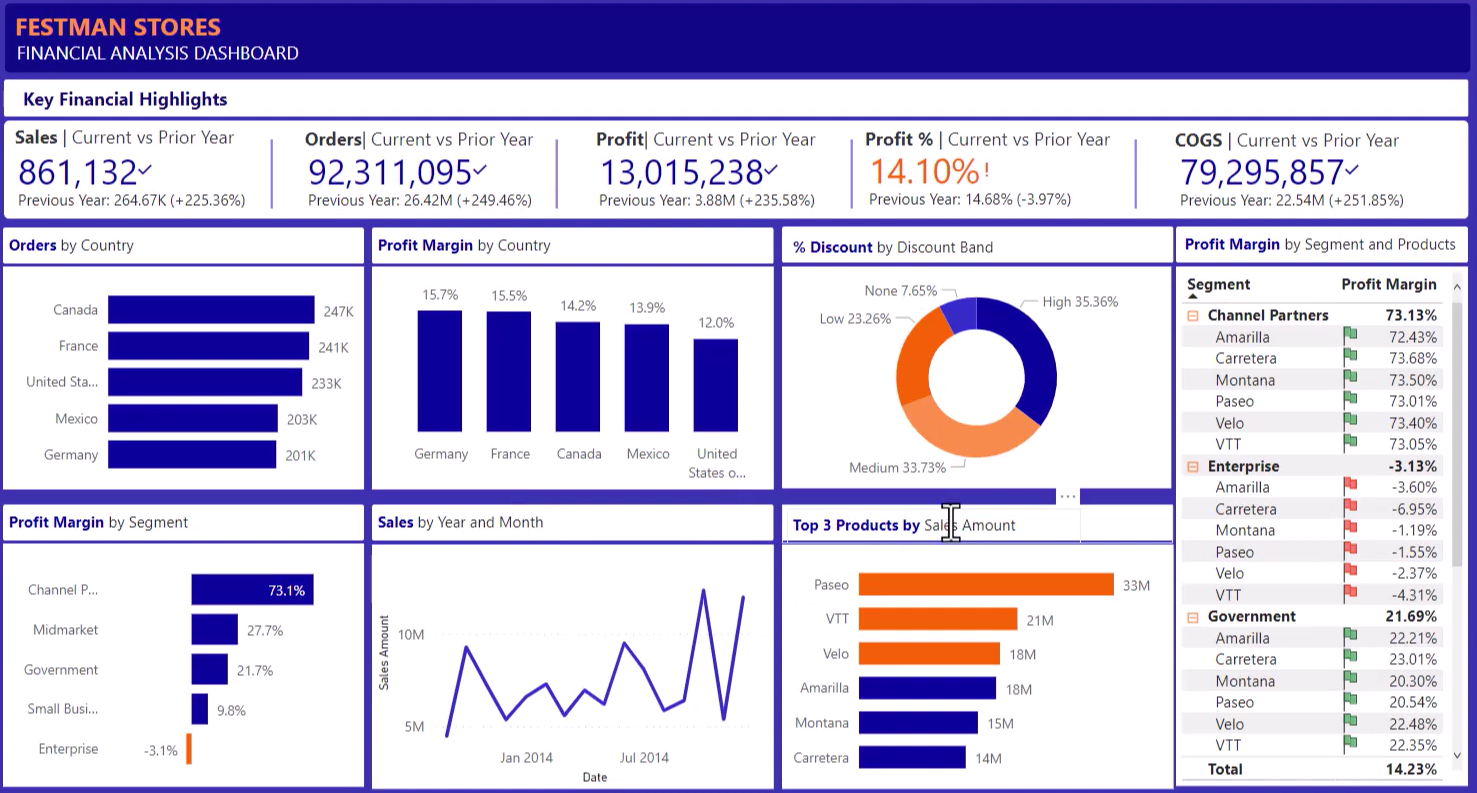

Layout of this report page (visuals, bound fields, positions):
{"tool":"powerbi","page":{"name":"Page 1","canvas":[1870,1166],"ordinal":0},"visuals":[{"type":"shape","box":[1384.2,433.7,481.2,716.9],"z":0},{"type":"shape","box":[8,0,1834,114],"z":1000},{"type":"shape","box":[9.9,126.7,1833.8,49.5],"z":2000},{"type":"shape","box":[10,188,1832,130],"z":3000},{"type":"shape","box":[7.8,394.5,449.2,328.1],"z":4000},{"type":"shape","box":[10,819.9,447.6,329.9],"z":5000},{"type":"shape","box":[468.8,394.5,447.3,328.1],"z":6000},{"type":"shape","box":[468.1,819.8,449.2,330.1],"z":7000},{"type":"shape","box":[927.8,819.8,449.2,330.1],"z":8000},{"type":"shape","box":[925.8,394.5,447.3,328.1],"z":9000},{"type":"shape","box":[9.8,763.7,447.3,43],"z":10000},{"type":"shape","box":[470.7,763.7,447.3,43],"z":11000},{"type":"shape","box":[928.8,763.7,447.3,43],"z":12000},{"type":"shape","box":[9.8,337.9,447.3,43],"z":13000},{"type":"shape","box":[467.8,337.9,447.3,43],"z":14000},{"type":"shape","box":[925.8,337.9,447.3,43],"z":15000},{"type":"shape","box":[1384.2,338.6,459.4,43.6],"z":16000},{"type":"textbox","box":[10,14,410,62],"z":17000},{"type":"textbox","box":[0,64,410,62],"z":18000},{"type":"textbox","box":[12,126,410,62],"z":19000},{"type":"kpi","fields":{"Indicator":["Analysis.Sales Amount"],"TrendLine":["Date.Year"],"Goal":["Analysis.Sales Amount LY"]},"box":[8,218.8,342,100],"z":20000},{"type":"textbox","box":[10,188.3,340,61.7],"z":21000},{"type":"shape","box":[232,204,222,100],"z":22000},{"type":"kpi","fields":{"TrendLine":["Date.Year"],"Goal":["Analysis.Orders LY"],"Indicator":["Analysis.Orders"]},"box":[381,218.8,342,100],"z":23000},{"type":"kpi","fields":{"TrendLine":["Date.Year"],"Indicator":["Analysis.Profit"],"Goal":["Analysis.Profit LY"]},"box":[754,218.8,342,100],"z":24000},{"type":"kpi","fields":{"TrendLine":["Date.Year"],"Indicator":["Analysis.Profit margin"],"Goal":["Analysis.Profit Margin LY"]},"box":[1112,218,342,100],"z":25000},{"type":"kpi","fields":{"TrendLine":["Date.Year"],"Indicator":["Analysis.Discount offered"],"Goal":["Analysis.Discount Offered LY"]},"box":[1502,220,342,100],"z":26000},{"type":"textbox","box":[350,191.7,348.3,61.7],"z":27000},{"type":"textbox","box":[724,188,324,62],"z":28000},{"type":"textbox","box":[1096,186,470,62],"z":29000},{"type":"textbox","box":[1499.1,186.1,370.3,61.4],"z":30000},{"type":"shape","box":[582,204,222,100],"z":31000},{"type":"shape","box":[970,204,222,100],"z":32000},{"type":"shape","box":[1388,204,222,100],"z":33000},{"type":"barChart","fields":{"Category":["Financials.Country"],"Y":["Analysis.Orders"]},"box":[0,394,458,328],"z":34000},{"type":"textbox","box":[12,338,442,62],"z":35000},{"type":"textbox","box":[468,338,442,62],"z":36000},{"type":"textbox","box":[928,340,442,54],"z":37000},{"type":"textbox","box":[928,766,442,54],"z":38000},{"type":"textbox","box":[468,766,442,54],"z":39000},{"type":"textbox","box":[10,766,442,54],"z":40000},{"type":"clusteredColumnChart","fields":{"Y":["Analysis.Profit margin"],"Category":["Financials.Country"]},"box":[458,400,460,328],"z":41000},{"type":"donutChart","fields":{"Category":["Financials.Discount Band"],"Y":["Analysis.Discount offered"]},"box":[918,394,460,334],"z":42000},{"type":"barChart","fields":{"Category":["Financials.Segment"],"Y":["Analysis.Profit margin"]},"box":[12,820,446,346],"z":43000},{"type":"lineChart","fields":{"Category":["Date.Date.Variation.Date Hierarchy.Year","Date.Date.Variation.Date Hierarchy.Month"],"Y":["Analysis.Sales Amount"]},"box":[467.4,819.8,461.4,330.7],"z":44000},{"type":"barChart","fields":{"Category":["Financials.Product"],"Y":["Analysis.Sales Amount"]},"box":[928,820,446,346],"z":45000},{"type":"pivotTable","fields":{"Rows":["Financials.Segment","Financials.Product"],"Values":["Analysis.Profit margin"]},"box":[1378.3,382.2,491.1,768.4],"z":46000},{"type":"textbox","box":[1388.2,338.6,455.5,53.5],"z":46001}]}

Visuals, with their boxes in screenshot pixels (x1, y1, x2, y2):
shape: bbox(1004, 286, 1338, 784)
shape: bbox(48, 0, 1322, 64)
shape: bbox(49, 73, 1323, 107)
shape: bbox(49, 115, 1322, 206)
shape: bbox(48, 259, 360, 487)
shape: bbox(49, 554, 360, 783)
shape: bbox(368, 259, 679, 487)
shape: bbox(368, 554, 680, 784)
shape: bbox(687, 554, 999, 784)
shape: bbox(686, 259, 996, 487)
shape: bbox(49, 515, 360, 545)
shape: bbox(369, 515, 680, 545)
shape: bbox(688, 515, 998, 545)
shape: bbox(49, 219, 360, 249)
shape: bbox(367, 219, 678, 249)
shape: bbox(686, 219, 996, 249)
shape: bbox(1004, 220, 1323, 250)
textbox: bbox(49, 0, 334, 37)
textbox: bbox(42, 29, 327, 72)
textbox: bbox(51, 72, 336, 115)
kpi - Analysis.Sales Amount x Date.Year: bbox(48, 137, 285, 206)
textbox: bbox(49, 115, 285, 158)
shape: bbox(203, 126, 358, 196)
kpi - Date.Year x Analysis.Orders LY: bbox(307, 137, 545, 206)
kpi - Date.Year x Analysis.Profit: bbox(566, 137, 804, 206)
kpi - Date.Year x Analysis.Profit margin: bbox(815, 136, 1053, 206)
kpi - Date.Year x Analysis.Discount offered: bbox(1086, 137, 1323, 207)
textbox: bbox(285, 118, 527, 161)
textbox: bbox(545, 115, 770, 158)
textbox: bbox(804, 114, 1130, 157)
textbox: bbox(1084, 114, 1341, 157)
shape: bbox(447, 126, 601, 196)
shape: bbox(716, 126, 870, 196)
shape: bbox(1007, 126, 1161, 196)
barChart - Financials.Country x Analysis.Orders: bbox(42, 258, 361, 486)
textbox: bbox(51, 219, 358, 263)
textbox: bbox(367, 219, 675, 263)
textbox: bbox(687, 221, 994, 258)
textbox: bbox(687, 517, 994, 554)
textbox: bbox(367, 517, 675, 554)
textbox: bbox(49, 517, 356, 554)
clusteredColumnChart - Analysis.Profit margin x Financials.Country: bbox(361, 263, 680, 490)
donutChart - Financials.Discount Band x Analysis.Discount offered: bbox(680, 258, 1000, 490)
barChart - Financials.Segment x Analysis.Profit margin: bbox(51, 554, 361, 792)
lineChart - Date.Date.Variation.Date Hierarchy.Year x Date.Date.Variation.Date Hierarchy.Month: bbox(367, 554, 688, 784)
barChart - Financials.Product x Analysis.Sales Amount: bbox(687, 554, 997, 792)
pivotTable - Financials.Segment x Financials.Product: bbox(1000, 250, 1341, 784)
textbox: bbox(1007, 220, 1323, 257)
